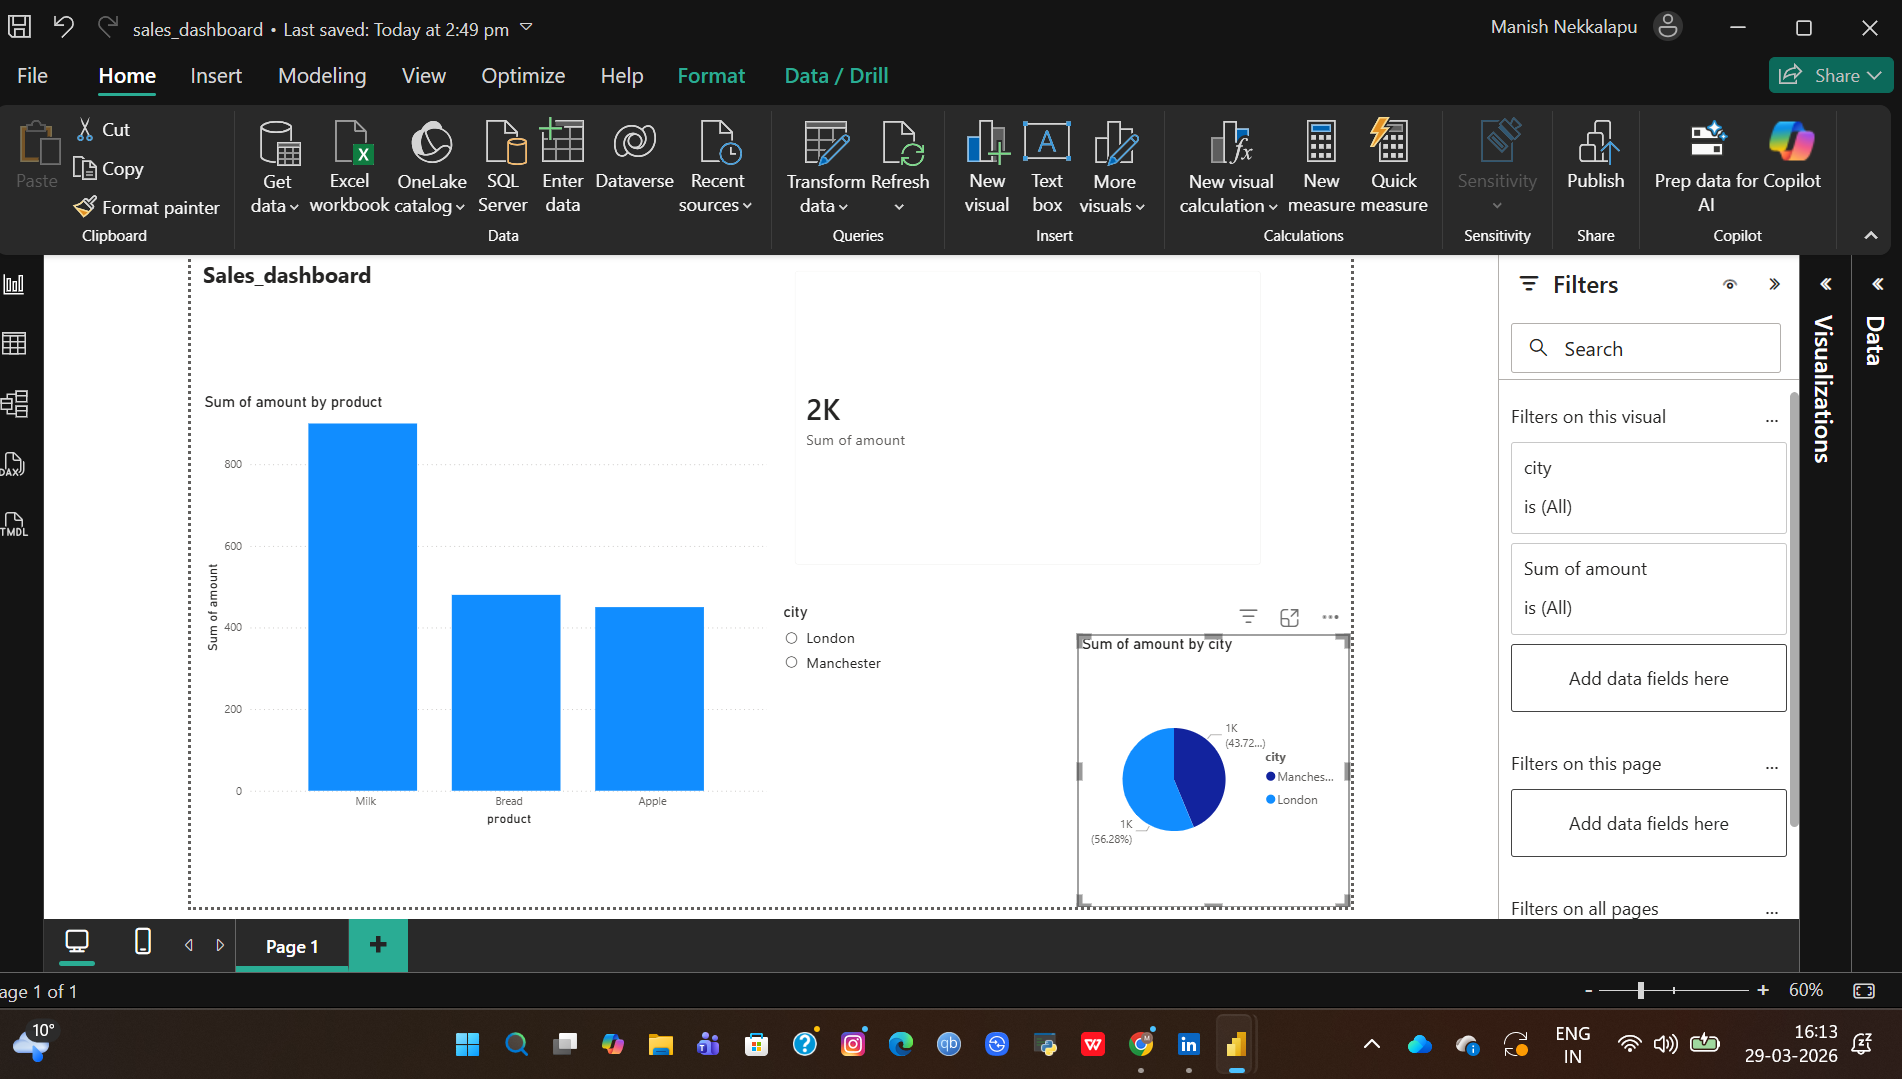

The dashboard page shown, as its layout file describes it:
{"tool":"powerbi","page":{"name":"Page 1","canvas":[1280,720],"ordinal":0},"visuals":[{"type":"clusteredColumnChart","fields":{"Category":["Table1.product"],"Y":["Sum(Table1.amount)"]},"box":[9.4,153.1,631.2,481.9],"z":0},{"type":"listSlicer","fields":{"Values":["Table1.city"]},"box":[667.1,481.9,532.9,238.1],"z":1000},{"type":"cardVisual","fields":{"Data":["Sum(Table1.amount)"]},"box":[650.1,0,549.9,359.1],"z":2000},{"type":"textbox","box":[9,0,631,153],"z":3000}]}

Visuals, with their boxes on the page's 1280x720 design canvas (x1, y1, x2, y2). These are canvas units, not pixel positions in the 1902x1079 screenshot, which may show the page scaled, cropped or inside an application window:
clusteredColumnChart - Table1.product x Sum(Table1.amount): BBox(9, 153, 641, 635)
listSlicer - Table1.city: BBox(667, 482, 1200, 720)
cardVisual - Sum(Table1.amount): BBox(650, 0, 1200, 359)
textbox: BBox(9, 0, 640, 153)
